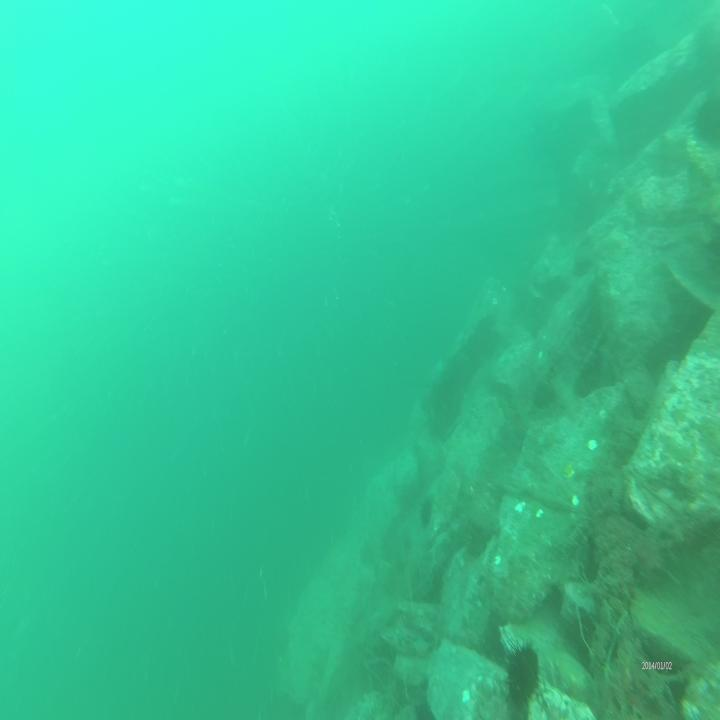echinus: (508, 638, 540, 699), (467, 520, 485, 557), (417, 499, 436, 527)
